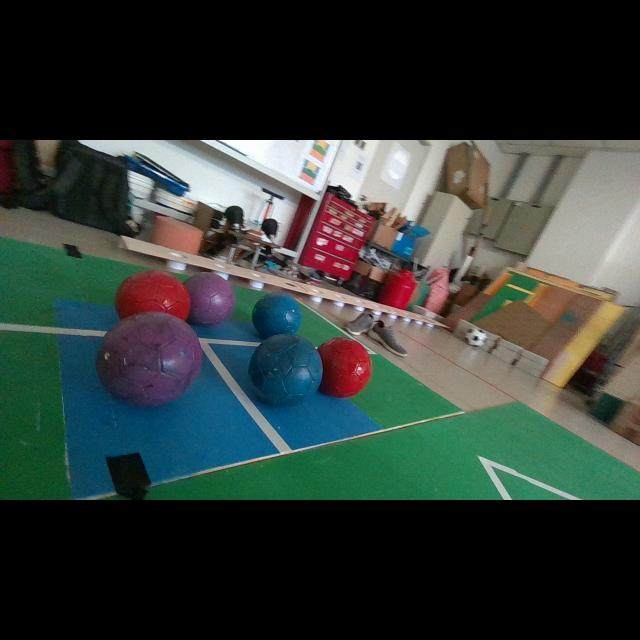B: (249, 334, 322, 407), (254, 294, 301, 339)
P: (96, 312, 202, 406), (184, 272, 235, 326)
R: (115, 270, 190, 320), (318, 338, 372, 398)
